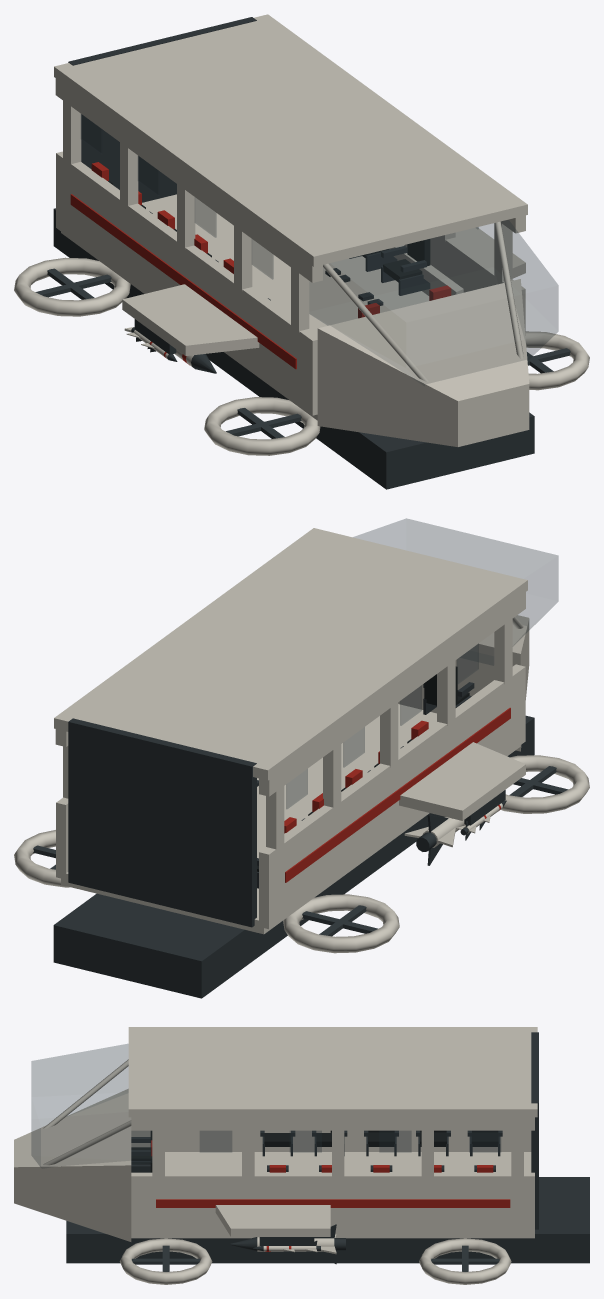
3 renders of one model, top to bottom at view 1: azimuth 30°, elevation 25°; view 2: azimuth 150°, elevation 25°; view 3: azimuth 270°, elevation 25°, orthographic. The views are drawn at different scales.
Parts seen in each view (by area): view 1: hover-transport-painted, transport-roof-painted, hover-transport-glazing, crew-seating-batch-painted, transport-ramp-painted, rotor-lift--1-2.9-fleet-machine, rotor-lift--1--3.1-fleet-machine; view 2: transport-roof-painted, hover-transport-painted, transport-ramp-painted, hover-transport-glazing, crew-seating-batch-painted, store-hover-large--1-painted, rotor-lift--1--3.1-fleet-machine, rotor-lift--1-2.9-fleet-machine; view 3: hover-transport-painted, transport-roof-painted, hover-transport-glazing, crew-seating-batch-painted, transport-ramp-painted, store-hover-large-1-painted, rotor-lift-1-2.9-fleet-machine, rotor-lift-1--3.1-fleet-machine.
Part boxes in pixels (<box>): hover-transport-painted: <box>14,151,589,489</box>; transport-roof-painted: <box>54,14,527,332</box>; hover-transport-glazing: <box>81,114,558,385</box>; crew-seating-batch-painted: <box>91,162,451,318</box>; transport-ramp-painted: <box>68,17,256,202</box>; rotor-lift--1-2.9-fleet-machine: <box>226,408,301,438</box>; rotor-lift--1--3.1-fleet-machine: <box>35,268,111,299</box>; transport-roof-painted: <box>54,528,527,850</box>; hover-transport-painted: <box>14,615,589,998</box>; transport-ramp-painted: <box>68,718,256,927</box>; hover-transport-glazing: <box>286,518,558,808</box>; crew-seating-batch-painted: <box>257,666,474,888</box>; store-hover-large--1-painted: <box>404,815,465,865</box>; rotor-lift--1--3.1-fleet-machine: <box>302,905,377,936</box>; rotor-lift--1-2.9-fleet-machine: <box>509,766,568,796</box>; hover-transport-painted: <box>14,1059,589,1284</box>; transport-roof-painted: <box>128,1027,537,1177</box>; hover-transport-glazing: <box>31,1044,500,1168</box>; crew-seating-batch-painted: <box>131,1130,502,1172</box>; transport-ramp-painted: <box>531,1032,538,1229</box>; store-hover-large-1-painted: <box>230,1224,345,1264</box>; rotor-lift-1-2.9-fleet-machine: <box>132,1245,200,1271</box>; rotor-lift-1--3.1-fleet-machine: <box>431,1245,499,1271</box>.
Bounding box in the file's own units: 36.97 × 20.23 × 63.16.
